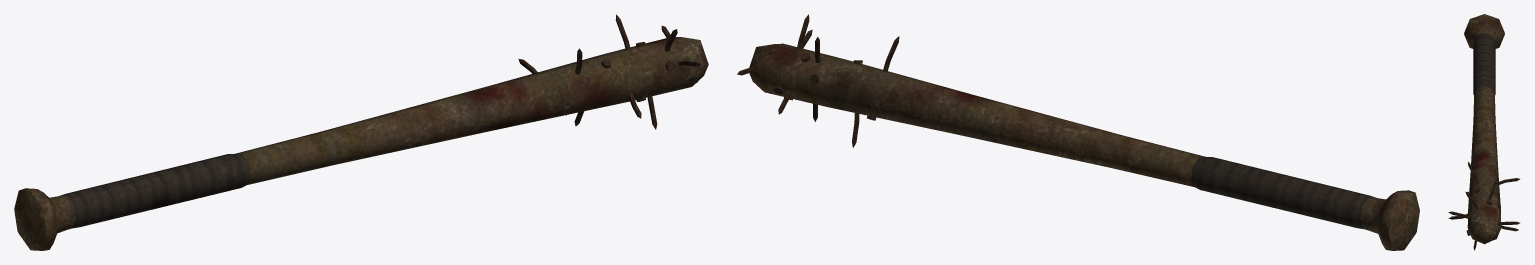
File: baseball_bat_mx_2.glb
3 renders of one model, left to right at view 1: azimuth 30°, elevation 25°; view 2: azimuth 150°, elevation 25°; view 3: azimuth 270°, elevation 25°, orthographic. The views are drawn at different scales.
Parts seen in each view (by area): view 1: baseball_bat_mx_2; view 2: baseball_bat_mx_2; view 3: baseball_bat_mx_2.
Part boxes in pixels (<box>): baseball_bat_mx_2: <box>14,14,708,250</box>; baseball_bat_mx_2: <box>737,14,1419,250</box>; baseball_bat_mx_2: <box>1448,14,1519,250</box>.
Size of the model in its own units: 1.24 by 0.1879 by 0.1866.
1 material, 1 textured.
